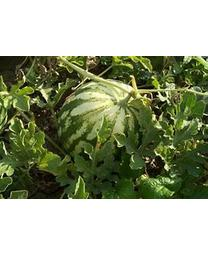watermelon: (56, 79, 147, 164)
